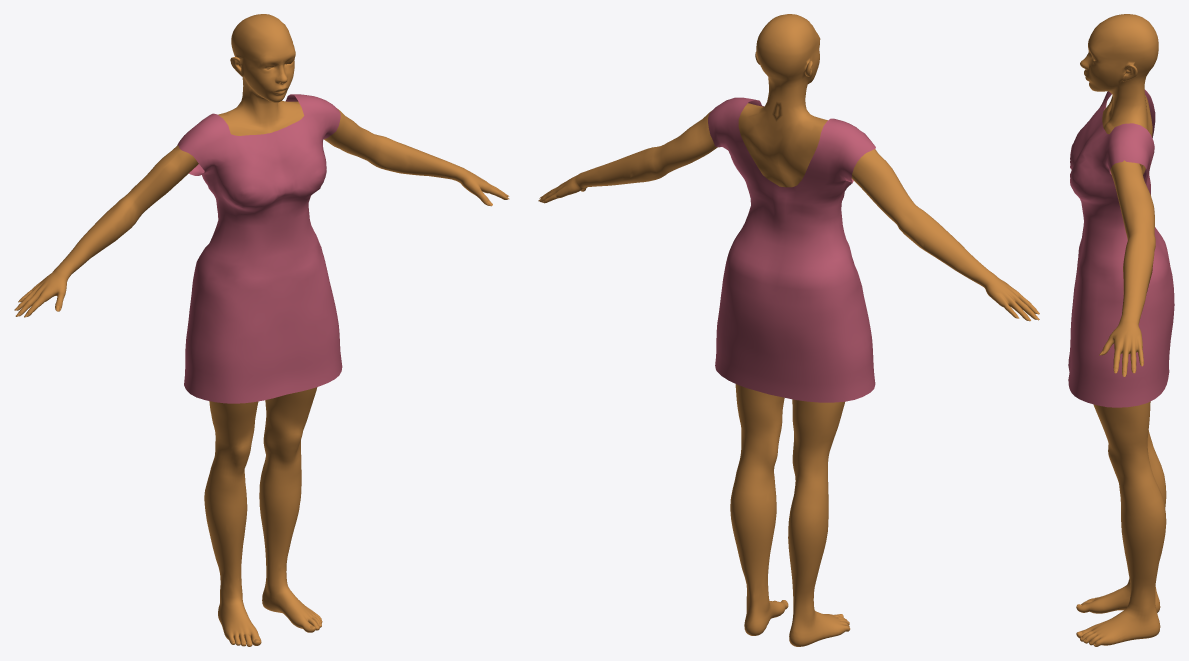
The model's file is dress7.glb.
3 renders of one model, left to right at view 1: azimuth 30°, elevation 25°; view 2: azimuth 150°, elevation 25°; view 3: azimuth 270°, elevation 25°, orthographic.
Visible parts, largest first — view 1: Jennifer.F_Dress_01, Body; view 2: Body, Jennifer.F_Dress_01; view 3: Body, Jennifer.F_Dress_01.
Part boxes in pixels (bbox=[...]): Jennifer.F_Dress_01: bbox=[177, 94, 342, 403]; Body: bbox=[17, 14, 508, 646]; Body: bbox=[539, 14, 1037, 646]; Jennifer.F_Dress_01: bbox=[708, 97, 875, 402]; Body: bbox=[1076, 14, 1166, 646]; Jennifer.F_Dress_01: bbox=[1068, 89, 1174, 407].
Bounding box in the file's own units: 1.58 × 1.85 × 0.2918.
